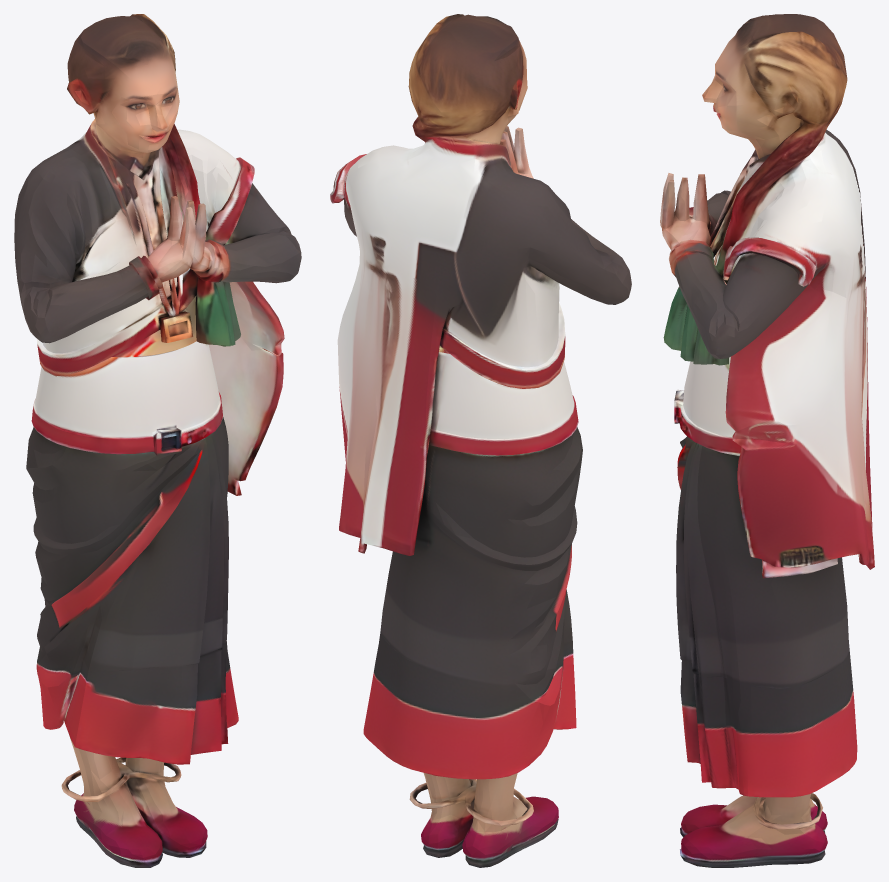
Rendered from shiv.glb.
3 views of the same model, side by side, from view 1: azimuth 30°, elevation 25°; view 2: azimuth 150°, elevation 25°; view 3: azimuth 270°, elevation 25° (orthographic). The views are drawn at different scales.
Parts seen in each view (by area): view 1: model; view 2: model; view 3: model.
Boxes of the visible parts, box(x1,y1,x2,y2) form: model: box(14, 14, 301, 867); model: box(330, 14, 631, 867); model: box(660, 14, 874, 867).
Bounding box in the file's own units: 0.6069 × 1.72 × 0.4045.
1 material, 1 textured.
